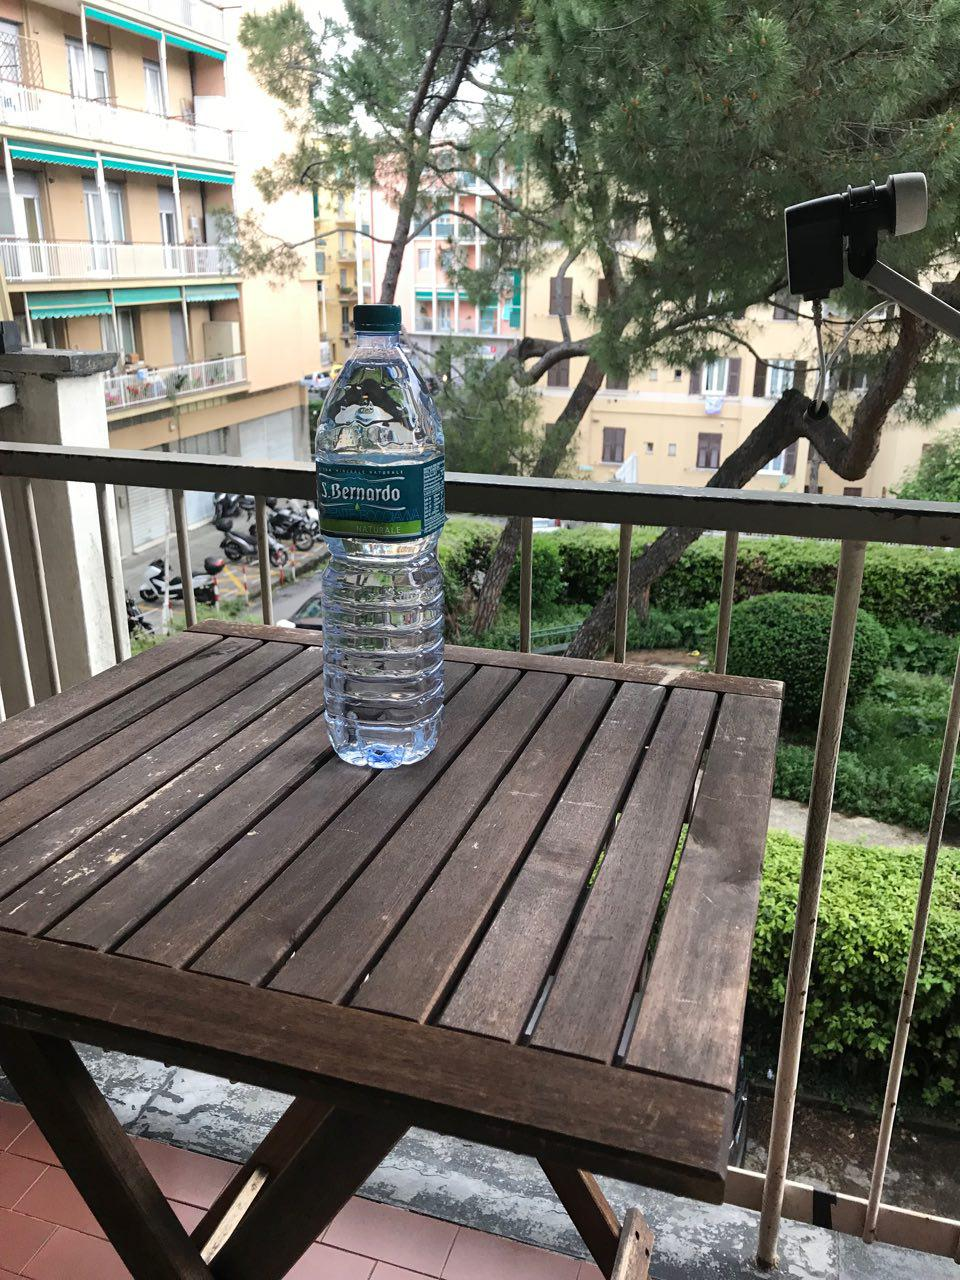san_bernardo: (314, 302, 446, 769)
